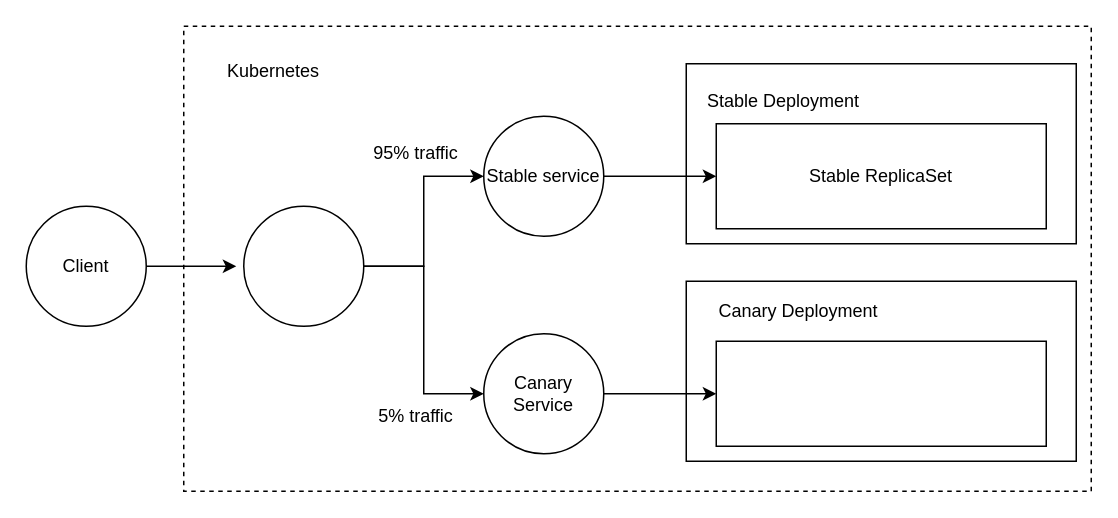
Some shapes in this 1118 by 518 pixel diagram are drawn without their labels. The centre of each missing label's shape, as x and y in pixels:
"Canary ReplicaSet" goes at point 880,393.
"Ingress (Envoy)" goes at point 303,265.
